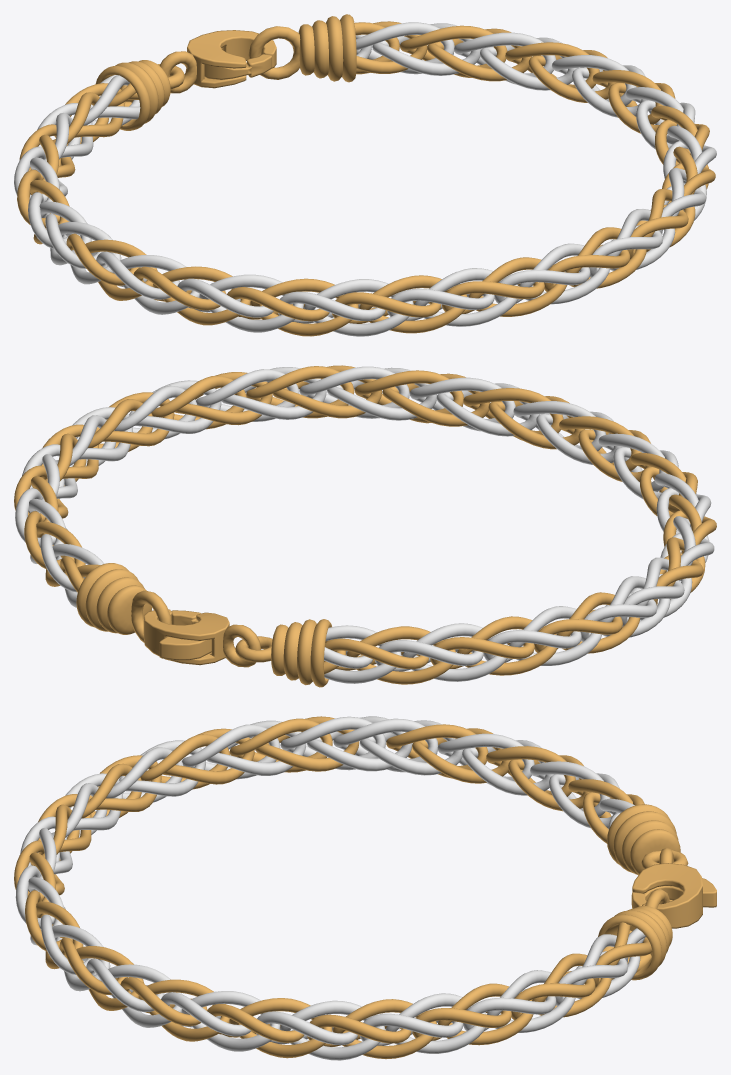
Rendered from Braclate_00.glb.
The picture shows the model from 3 angles, top to bottom: view 1: azimuth 30°, elevation 25°; view 2: azimuth 150°, elevation 25°; view 3: azimuth 270°, elevation 25°; orthographic projection. The views are drawn at different scales.
Parts seen in each view (by area): view 1: Braclate; view 2: Braclate; view 3: Braclate.
Part boxes in pixels (x1,y1,x2,y2): Braclate: (14, 14, 716, 336); Braclate: (14, 365, 716, 687); Braclate: (14, 716, 716, 1060).
Size of the model in its own units: 1.05 by 0.1005 by 1.01.
